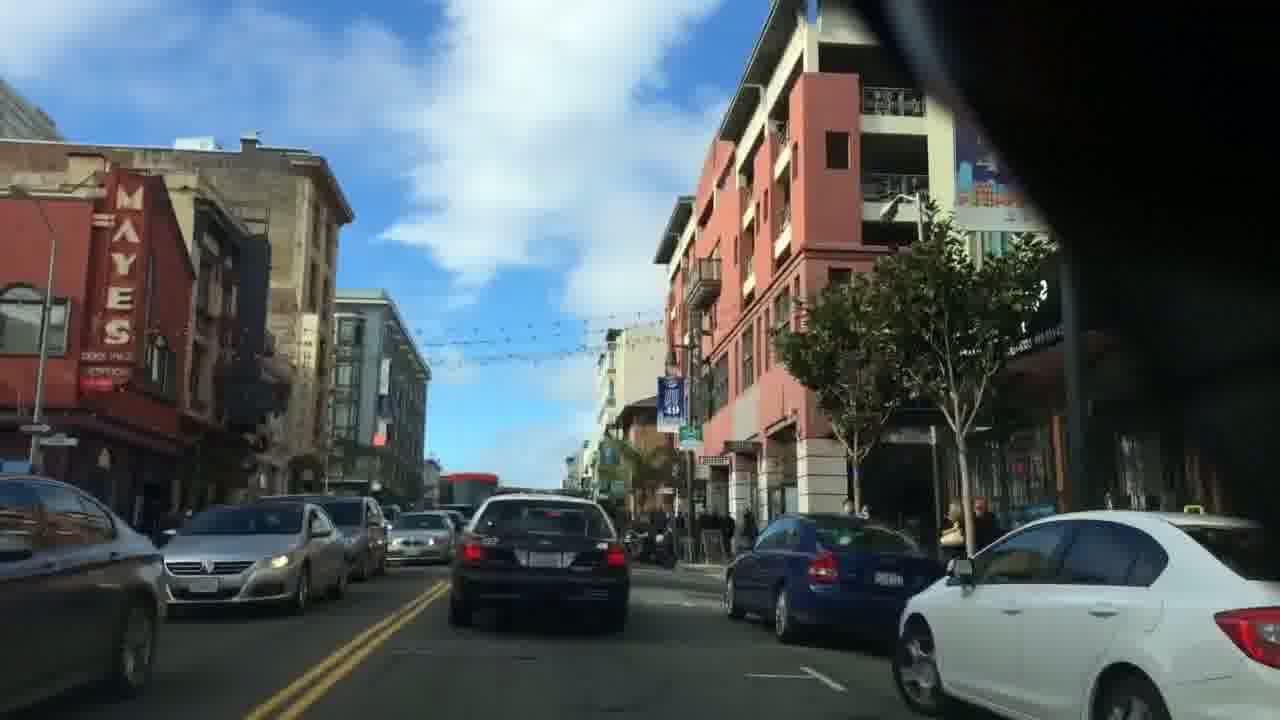car: (891, 508, 1279, 719), (0, 470, 165, 718), (724, 510, 947, 644), (452, 491, 629, 632), (156, 498, 346, 613), (305, 495, 388, 581), (386, 510, 455, 564)
pedestrian: (938, 500, 966, 567), (971, 495, 999, 553), (739, 506, 756, 547)
